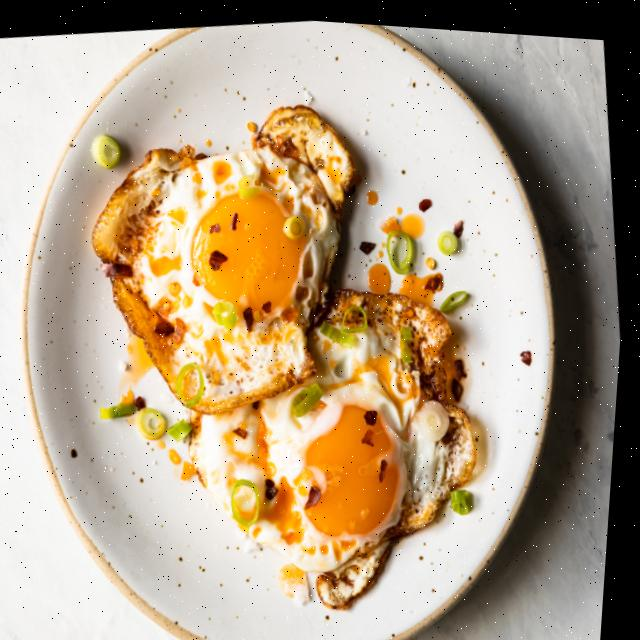Egg: (195, 283, 481, 567), (95, 100, 356, 410)
